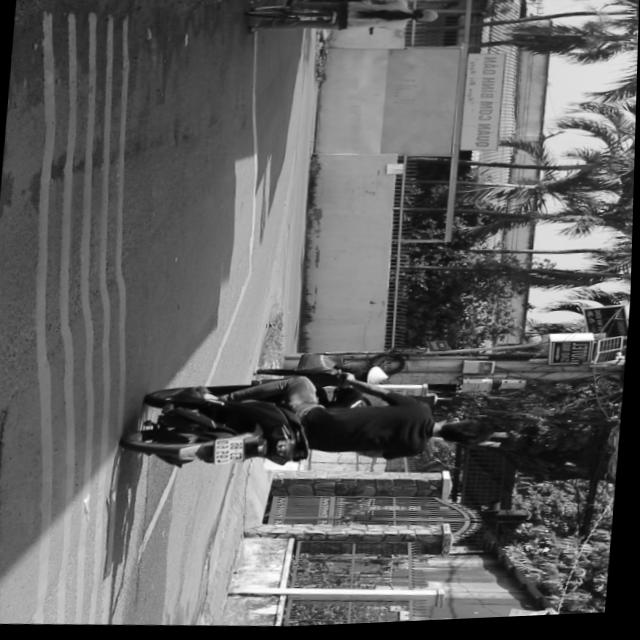licenseplate: (122, 360, 508, 490)
motorcyclist: (436, 417, 499, 454)
nohelmet: (218, 438, 250, 467)
